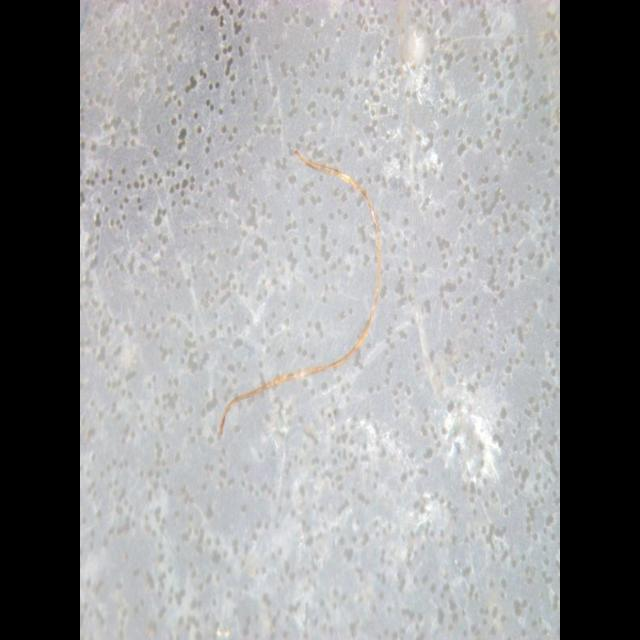Fibre: (218, 147, 380, 437)
